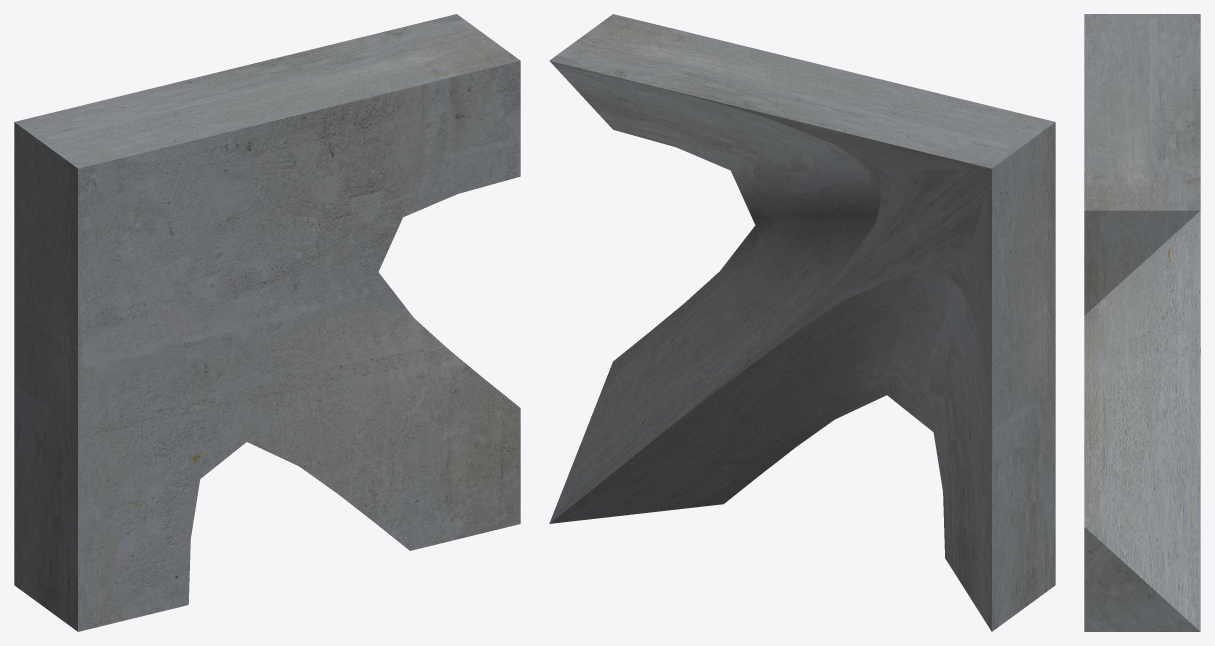
The model's file is module_H1.fbx.
3 renders of one model, left to right at view 1: azimuth 30°, elevation 25°; view 2: azimuth 150°, elevation 25°; view 3: azimuth 270°, elevation 25°, orthographic. The views are drawn at different scales.
Visible parts, largest first — view 1: modules; view 2: modules; view 3: modules.
Part boxes in pixels (<box>): modules: <box>14,14,520,631</box>; modules: <box>549,14,1055,631</box>; modules: <box>1084,14,1200,631</box>.
Size of the model in its own units: 1000 by 250 by 1000.
Materials: 1 (1 with a texture image).
